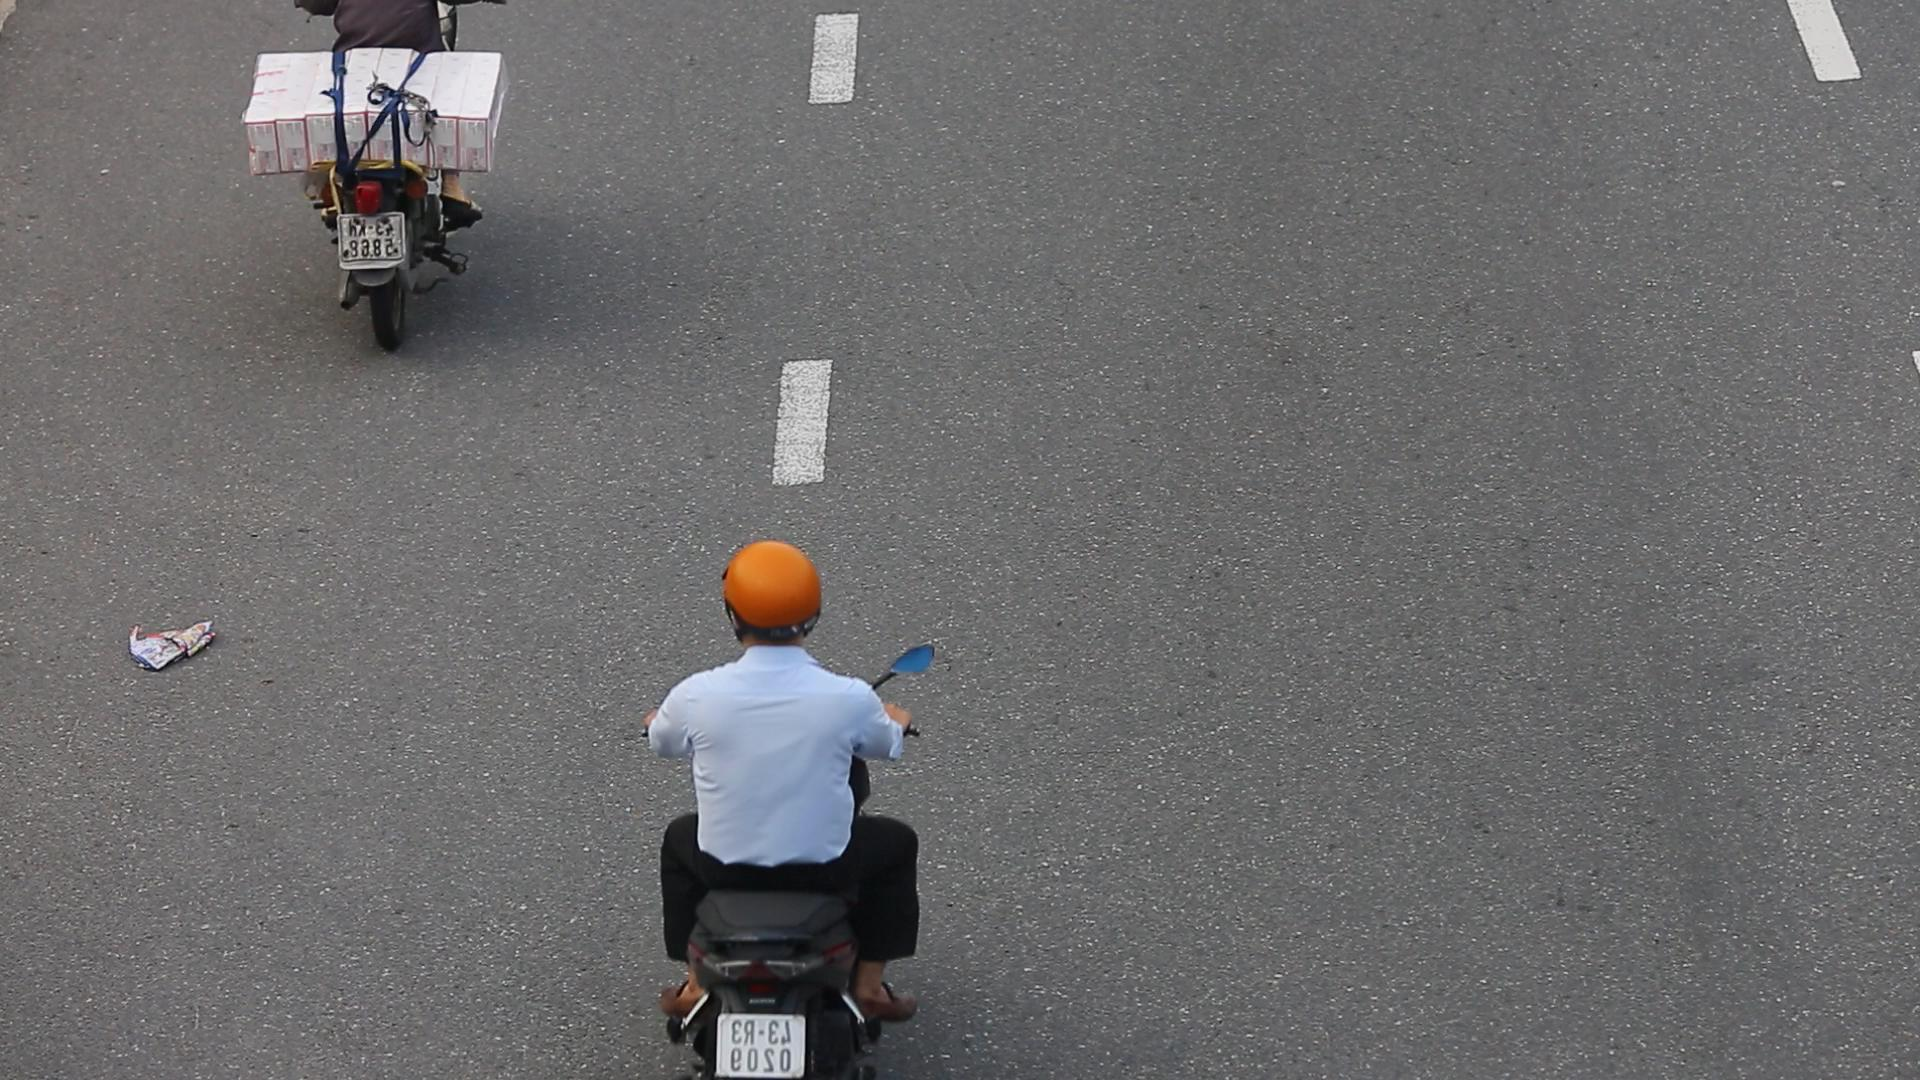motobike: (644, 534, 943, 1080)
